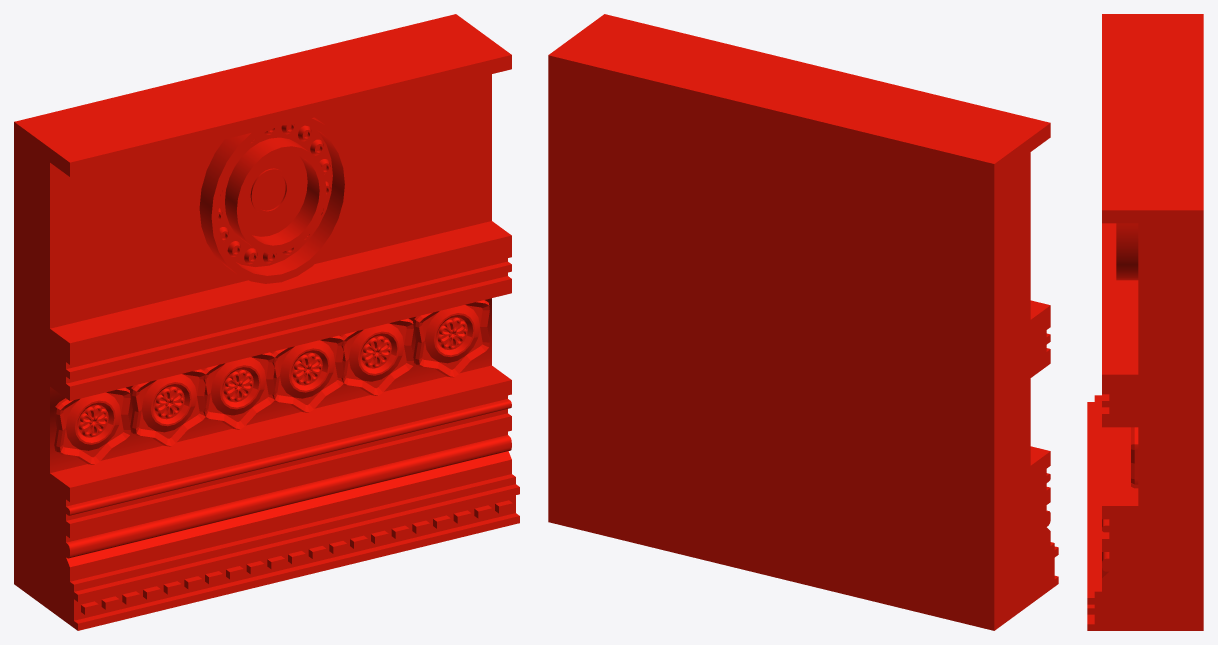
Rendered from murcolonne.FBX.
3 views of the same model, side by side, from view 1: azimuth 30°, elevation 25°; view 2: azimuth 150°, elevation 25°; view 3: azimuth 270°, elevation 25° (orthographic). The views are drawn at different scales.
Parts seen in each view (by area): view 1: Box013; view 2: Box013; view 3: Box013.
Part boxes in pixels (left/top/right/bottom): Box013: left=14, top=14, right=519, bottom=630; Box013: left=548, top=14, right=1058, bottom=630; Box013: left=1087, top=14, right=1203, bottom=630.
Bounding box in the file's own units: 256 × 256 × 64.
